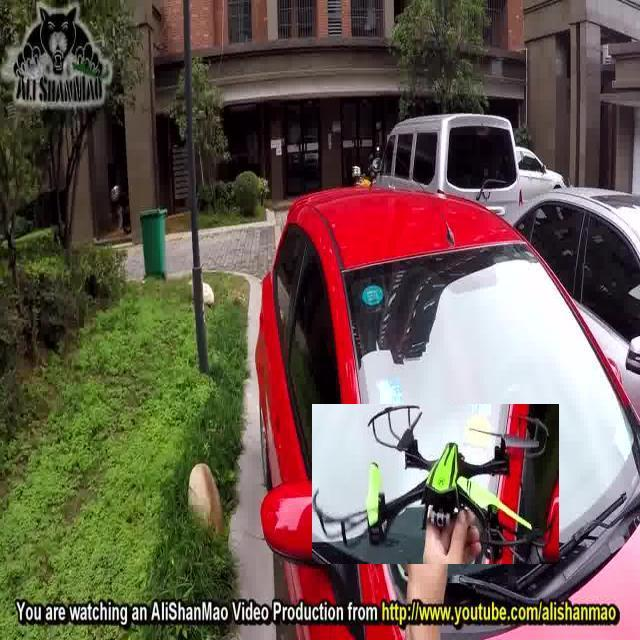drone: (312, 403, 559, 564)
